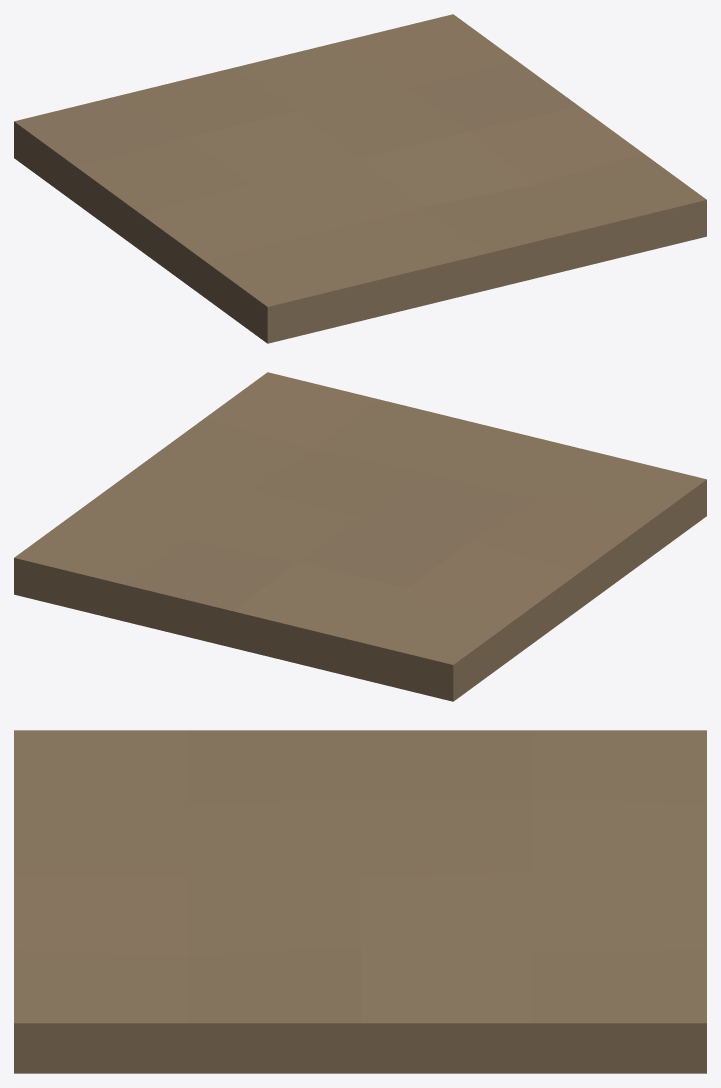
File: terrain_dirt.glb
The picture shows the model from 3 angles, top to bottom: view 1: azimuth 30°, elevation 25°; view 2: azimuth 150°, elevation 25°; view 3: azimuth 270°, elevation 25°; orthographic projection. The views are drawn at different scales.
Visible parts, largest first — view 1: terrain_dirt; view 2: terrain_dirt; view 3: terrain_dirt.
Boxes of the visible parts, <box> form: terrain_dirt: <box>14,14,706,343</box>; terrain_dirt: <box>14,372,706,701</box>; terrain_dirt: <box>14,730,706,1073</box>.
Size of the model in its own units: 1 by 0.087 by 1.
